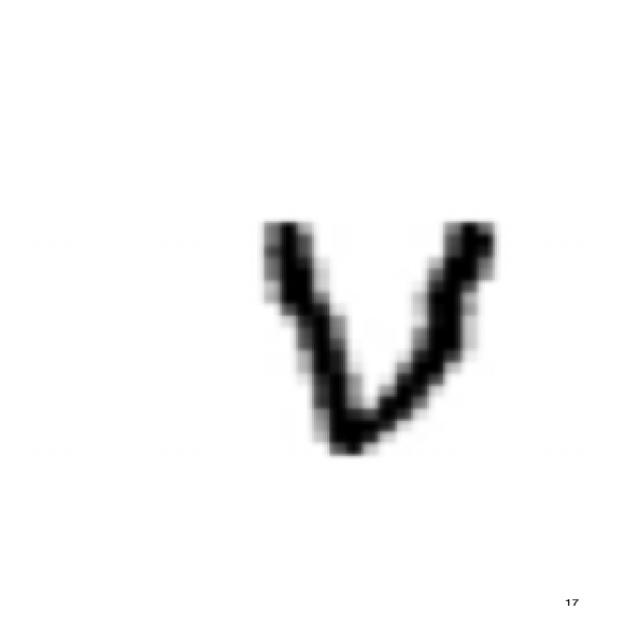7 -seven-: (242, 204, 512, 472)
